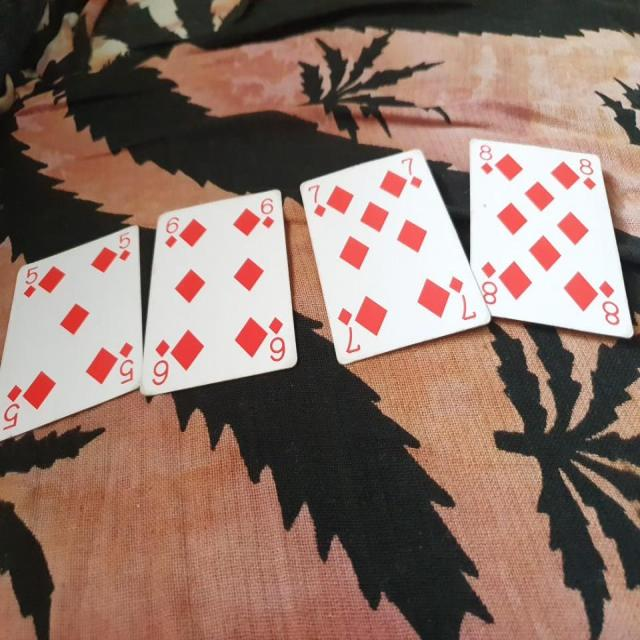5 Diamonds: (0, 218, 144, 436)
6 Diamonds: (139, 185, 300, 394)
7 Diamonds: (296, 148, 490, 364)
8 Diamonds: (468, 137, 632, 340)
